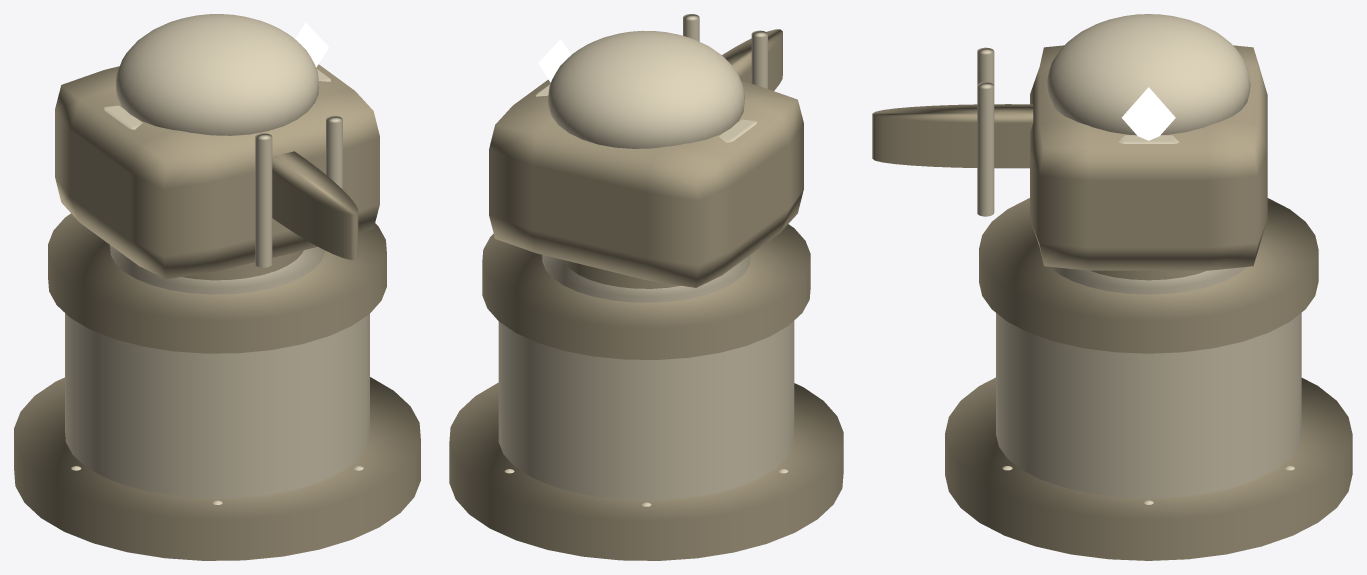
The model's file is sentinel_l5.glb.
The picture shows the model from 3 angles, left to right: view 1: azimuth 30°, elevation 25°; view 2: azimuth 150°, elevation 25°; view 3: azimuth 270°, elevation 25°; orthographic projection. The views are drawn at different scales.
Parts seen in each view (by area): view 1: base, armor, footing, baseCollar, helmet, barrel, lowerTrim, BarrelDetailL, shaft, BarrelDetailR, spinCrystal; view 2: armor, base, footing, baseCollar, helmet, lowerTrim, barrel, shaft, BarrelDetailL, spinCrystal; view 3: base, armor, footing, baseCollar, helmet, barrel, lowerTrim, BarrelDetailR, spinCrystal, shaft, BarrelDetailL.
Part boxes in pixels (bbox=[...]): base: bbox=[65, 313, 369, 498]; armor: bbox=[55, 64, 379, 279]; footing: bbox=[14, 377, 420, 560]; baseCollar: bbox=[48, 213, 386, 353]; helmet: bbox=[115, 14, 319, 135]; barrel: bbox=[272, 151, 358, 259]; lowerTrim: bbox=[110, 245, 324, 294]; BarrelDetailL: bbox=[255, 133, 272, 267]; shaft: bbox=[182, 250, 303, 280]; BarrelDetailR: bbox=[326, 116, 342, 189]; spinCrystal: bbox=[295, 22, 328, 67]; armor: bbox=[489, 79, 803, 287]; base: bbox=[498, 321, 794, 500]; footing: bbox=[449, 382, 843, 560]; baseCollar: bbox=[482, 224, 810, 359]; helmet: bbox=[548, 30, 744, 148]; lowerTrim: bbox=[542, 255, 750, 302]; barrel: bbox=[722, 29, 782, 90]; shaft: bbox=[563, 260, 680, 288]; BarrelDetailL: bbox=[751, 30, 767, 88]; spinCrystal: bbox=[538, 39, 570, 82]; base: bbox=[996, 313, 1301, 498]; armor: bbox=[1030, 45, 1267, 270]; footing: bbox=[945, 377, 1352, 560]; baseCollar: bbox=[979, 198, 1318, 353]; helmet: bbox=[1047, 14, 1250, 135]; barrel: bbox=[872, 104, 1033, 168]; lowerTrim: bbox=[1050, 267, 1246, 294]; BarrelDetailR: bbox=[977, 82, 994, 216]; spinCrystal: bbox=[1121, 87, 1175, 140]; shaft: bbox=[1090, 270, 1206, 280]; BarrelDetailL: bbox=[977, 47, 994, 85].
Size of the model in its own units: 1.8 by 2.17 by 2.12.
